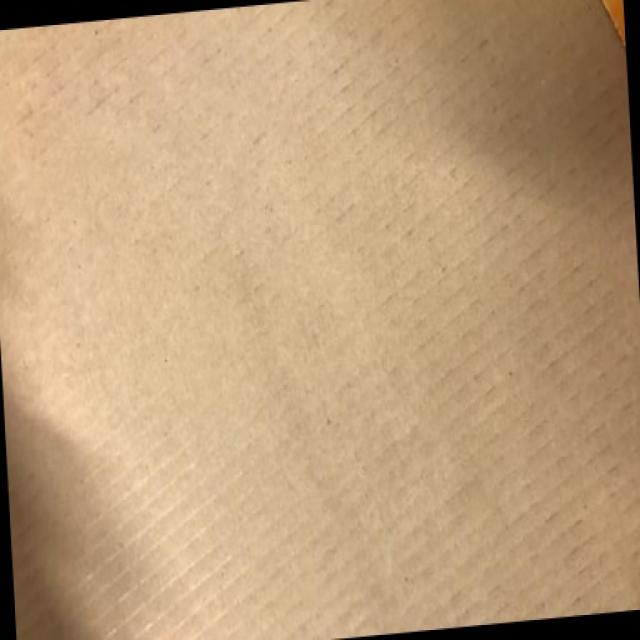carton: (15, 7, 637, 638)
